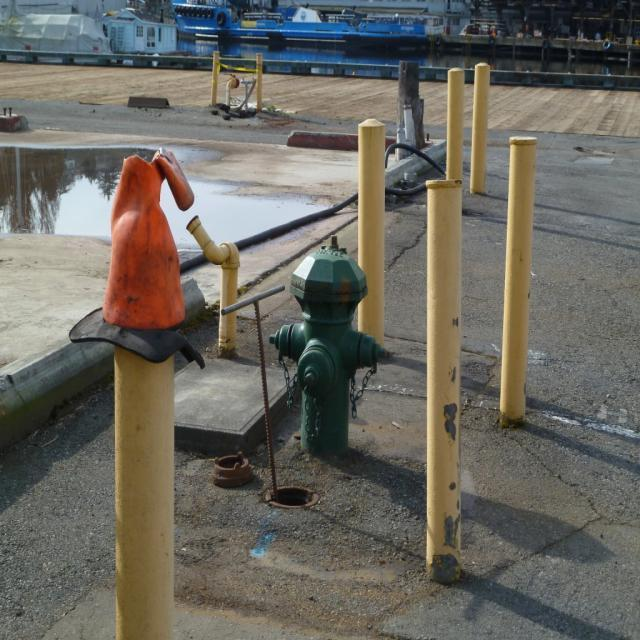water accumulation: (0, 143, 338, 249)
